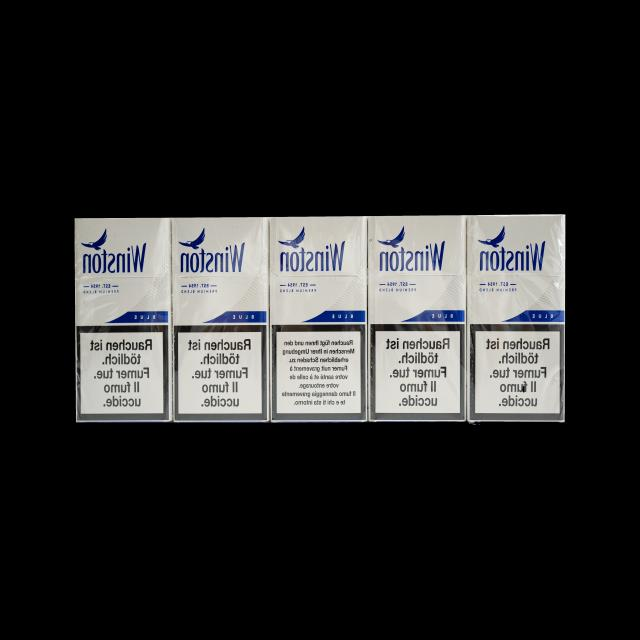winston: (467, 216, 567, 422), (367, 215, 470, 415), (171, 215, 269, 422), (74, 215, 172, 422), (268, 216, 367, 420)
